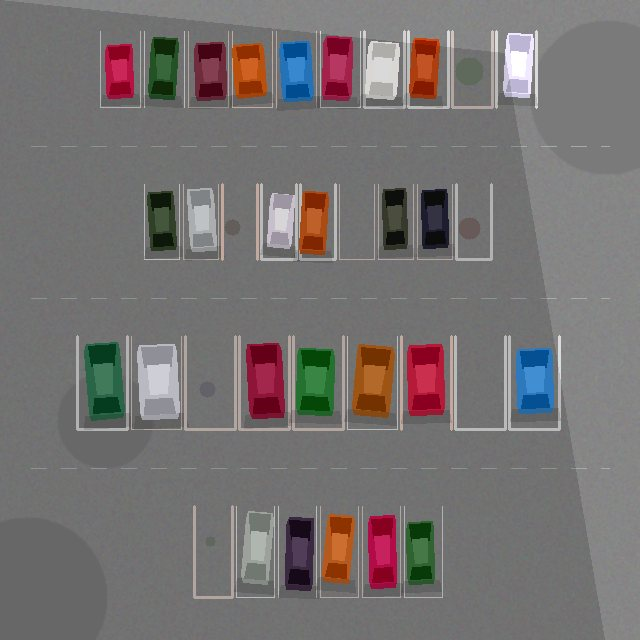space-empty: (185, 336, 235, 429), (455, 336, 505, 429), (194, 506, 232, 597), (452, 31, 492, 107), (222, 184, 257, 259), (339, 184, 374, 259), (456, 184, 491, 259)
space-occupied: (77, 336, 127, 429), (131, 336, 181, 429), (239, 336, 289, 429), (293, 336, 343, 429), (347, 336, 397, 429), (401, 336, 451, 429), (509, 336, 559, 429), (236, 506, 274, 597), (278, 506, 316, 597), (320, 506, 358, 597), (362, 506, 400, 597), (404, 506, 442, 597), (100, 31, 140, 107), (144, 31, 184, 107), (188, 31, 228, 107), (232, 31, 272, 107), (276, 31, 316, 107), (320, 31, 360, 107), (364, 31, 404, 107), (408, 31, 448, 107), (496, 31, 536, 107), (144, 184, 179, 259), (183, 184, 218, 259), (261, 184, 296, 259), (300, 184, 335, 259), (378, 184, 413, 259), (417, 184, 452, 259)
